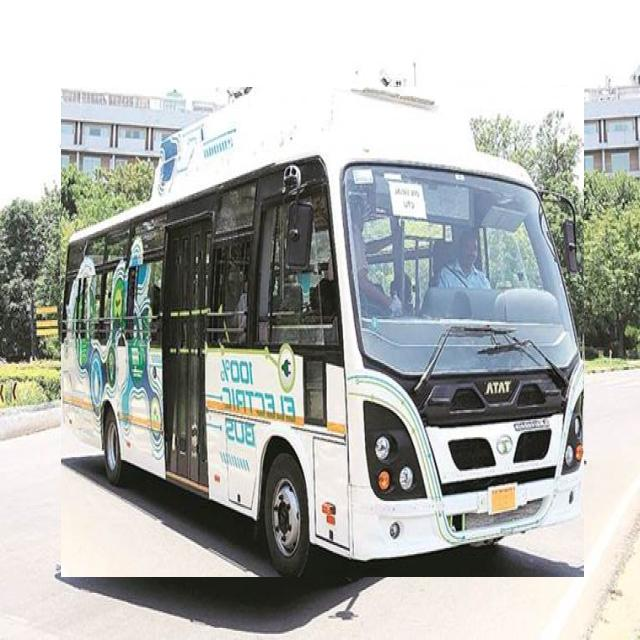bus: (61, 87, 584, 577)
